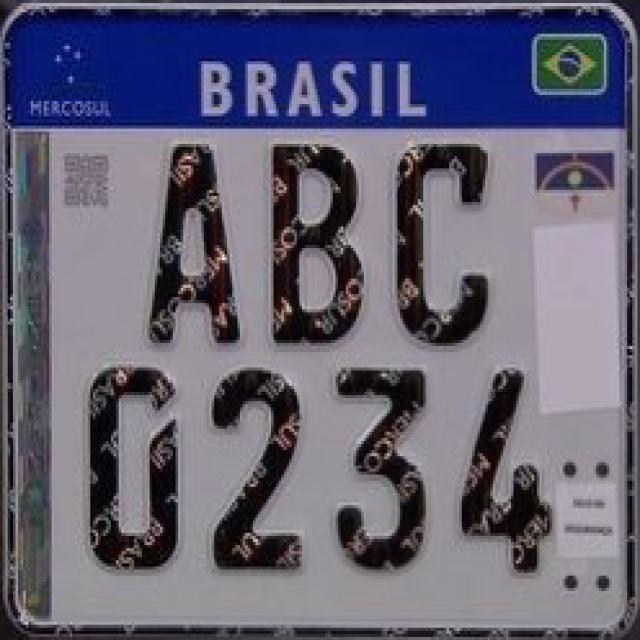Placa_mercosul_carro: (6, 14, 629, 628)
